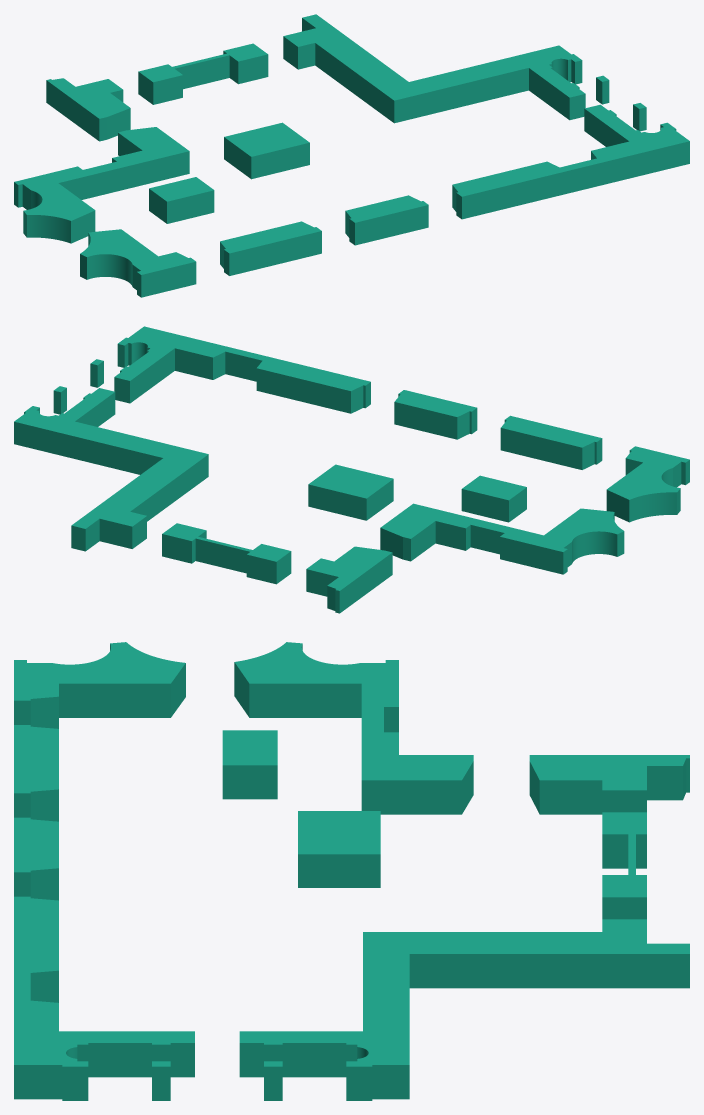
Rendered from Test11_01_2022_flip.obj.
3 renders of one model, top to bottom at view 1: azimuth 30°, elevation 25°; view 2: azimuth 150°, elevation 25°; view 3: azimuth 270°, elevation 25°, orthographic. The views are drawn at different scales.
Parts seen in each view (by area): view 1: estrusione_pianta, cubotti; view 2: estrusione_pianta, cubotti; view 3: estrusione_pianta, cubotti.
Part boxes in pixels (bbox=[...]): estrusione_pianta: bbox=[14, 14, 689, 297]; cubotti: bbox=[149, 122, 309, 223]; estrusione_pianta: bbox=[14, 326, 689, 613]; cubotti: bbox=[308, 464, 526, 522]; estrusione_pianta: bbox=[14, 642, 689, 1100]; cubotti: bbox=[222, 730, 380, 887].
Size of the model in its own units: 2694 by 101 by 1813.
